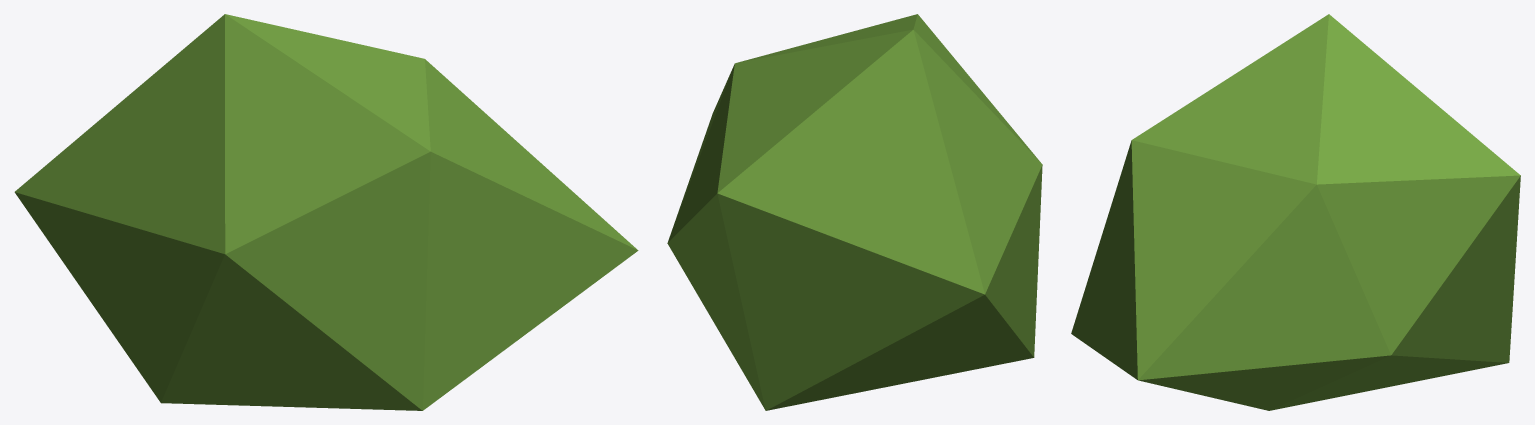
Rendered from shrub_a_lod2.glb.
3 renders of one model, left to right at view 1: azimuth 30°, elevation 25°; view 2: azimuth 150°, elevation 25°; view 3: azimuth 270°, elevation 25°, orthographic. The views are drawn at different scales.
Parts seen in each view (by area): view 1: shrub; view 2: shrub; view 3: shrub.
Part boxes in pixels (bbox=[...]): shrub: bbox=[14, 14, 638, 410]; shrub: bbox=[667, 14, 1042, 410]; shrub: bbox=[1071, 14, 1520, 410].
Bounding box in the file's own units: 2 × 1.44 × 1.82.
